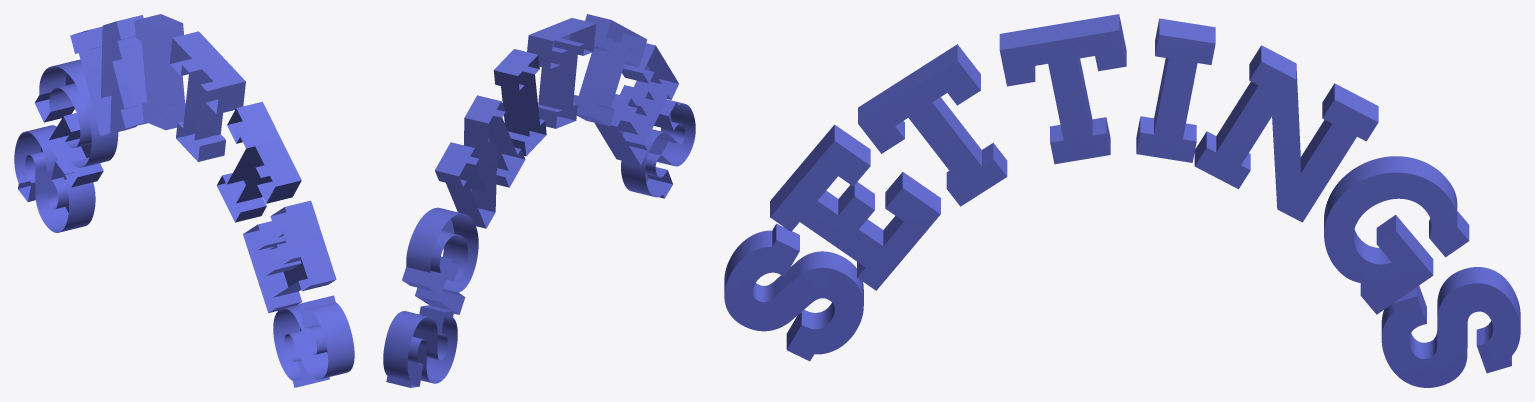
The model's file is Settings.fbx.
3 renders of one model, left to right at view 1: azimuth 30°, elevation 25°; view 2: azimuth 150°, elevation 25°; view 3: azimuth 270°, elevation 25°, orthographic. The views are drawn at different scales.
Visible parts, largest first — view 1: Settings; view 2: Settings; view 3: Settings.
Boxes of the visible parts, x1,y1,x2,y2 form: Settings: (14,14,354,387); Settings: (383,14,695,387); Settings: (724,14,1520,387).
Size of the model in its own units: 3.59 by 36.37 by 73.4.
